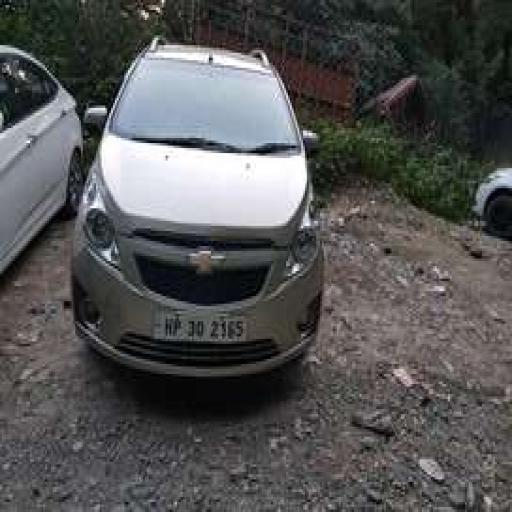license_plate`: (150, 309, 244, 341)
